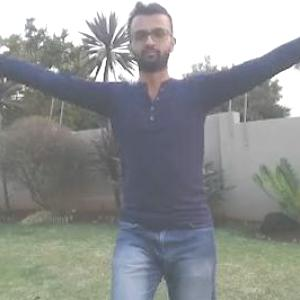takeoff: (1, 19, 299, 299)
